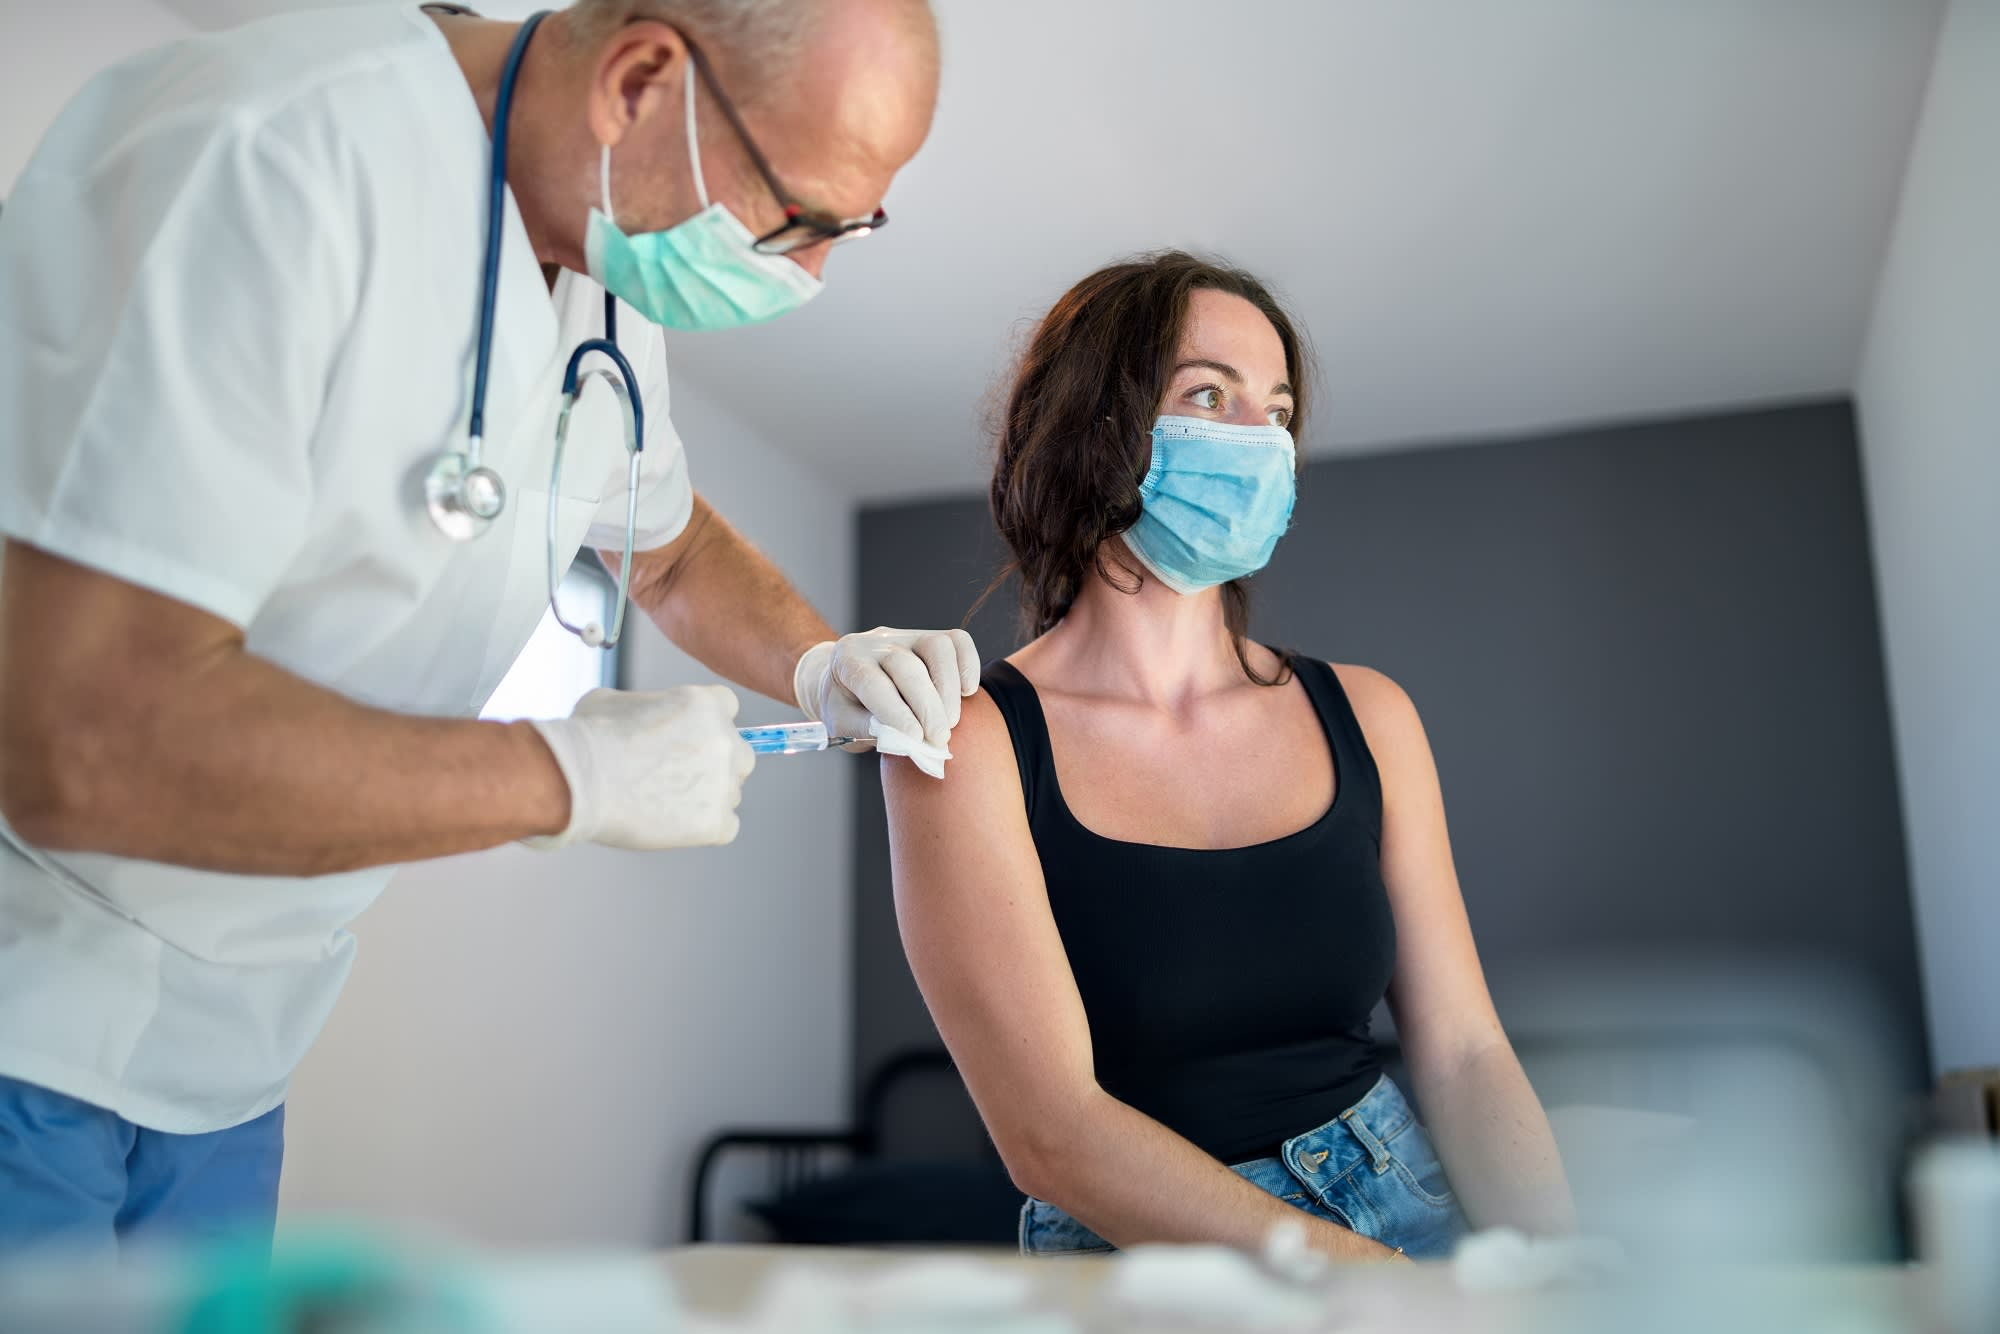with_mask: (579, 72, 865, 337), (1113, 331, 1303, 580)
